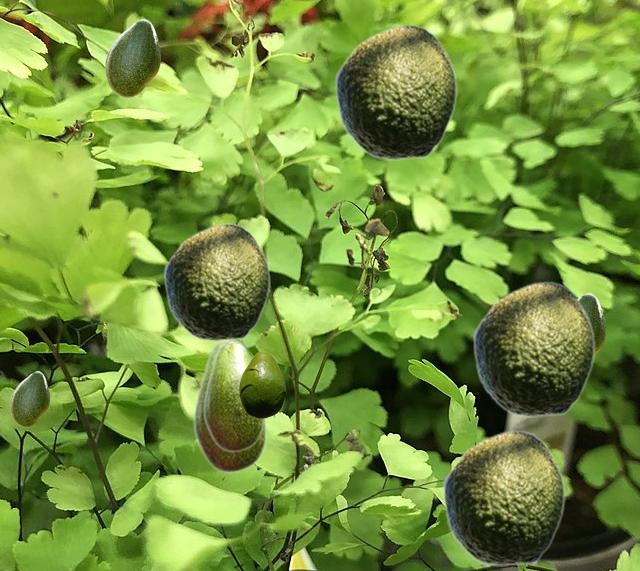avocado: (334, 24, 456, 159), (442, 430, 564, 565), (472, 281, 594, 416), (163, 223, 269, 340), (193, 338, 266, 473), (203, 340, 263, 452), (105, 19, 159, 96), (239, 351, 285, 417), (10, 371, 48, 426), (578, 293, 604, 355)
